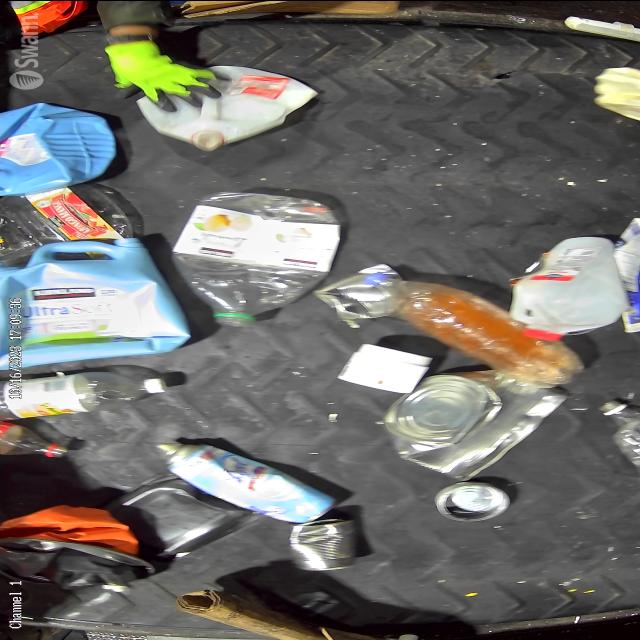can: (384, 377, 552, 479), (286, 517, 358, 573), (436, 484, 506, 522)
milk_jug: (138, 66, 312, 148), (507, 243, 619, 346)
non_white_jug: (6, 240, 180, 372), (0, 100, 111, 196)
plastic_bottle: (0, 369, 165, 424)
